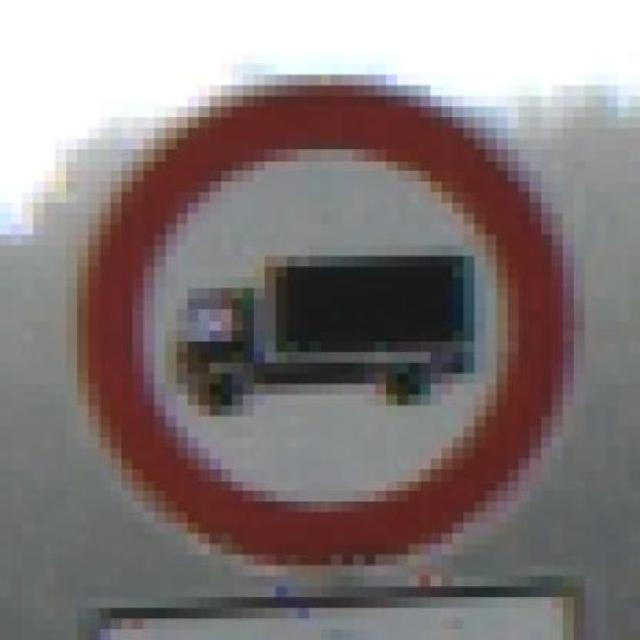Truck traffic is prohibited: (44, 42, 596, 587)
